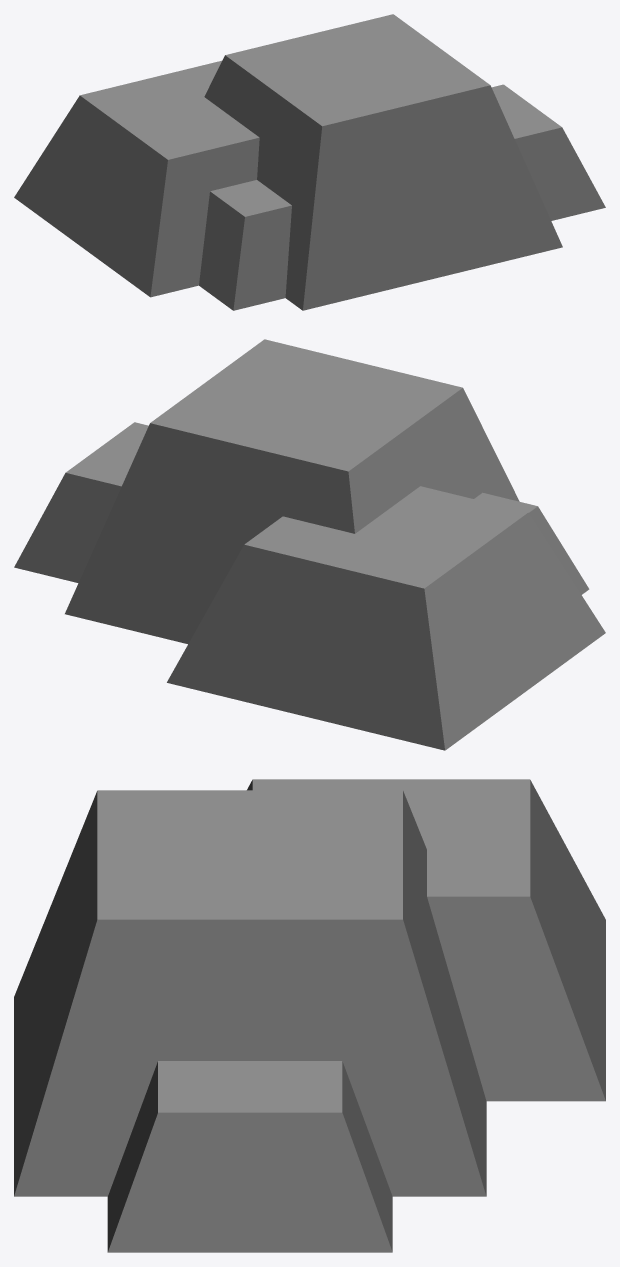
The model's file is SM_Env_Rock_Grey_01.fbx.
3 renders of one model, top to bottom at view 1: azimuth 30°, elevation 25°; view 2: azimuth 150°, elevation 25°; view 3: azimuth 270°, elevation 25°, orthographic. The views are drawn at different scales.
Visible parts, largest first — view 1: SM_Env_Rock_Grey_01; view 2: SM_Env_Rock_Grey_01; view 3: SM_Env_Rock_Grey_01.
Boxes of the visible parts, x1,y1,x2,y2 form: SM_Env_Rock_Grey_01: [14, 14, 605, 310]; SM_Env_Rock_Grey_01: [14, 339, 605, 750]; SM_Env_Rock_Grey_01: [14, 779, 605, 1252].
Size of the model in its own units: 1.76 by 0.5957 by 1.32.
